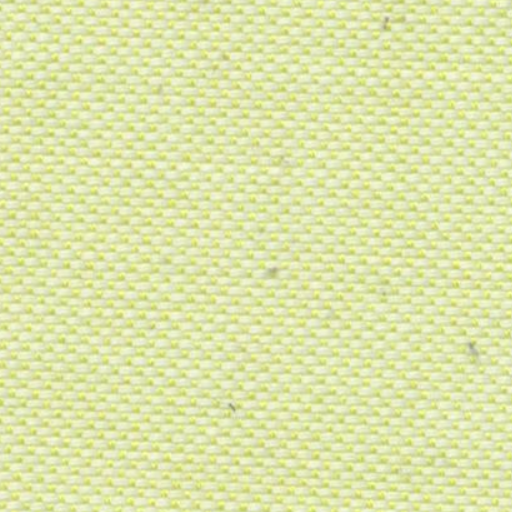WuZi: (460, 330, 490, 374), (213, 390, 254, 419), (257, 258, 292, 290), (364, 11, 396, 42)
